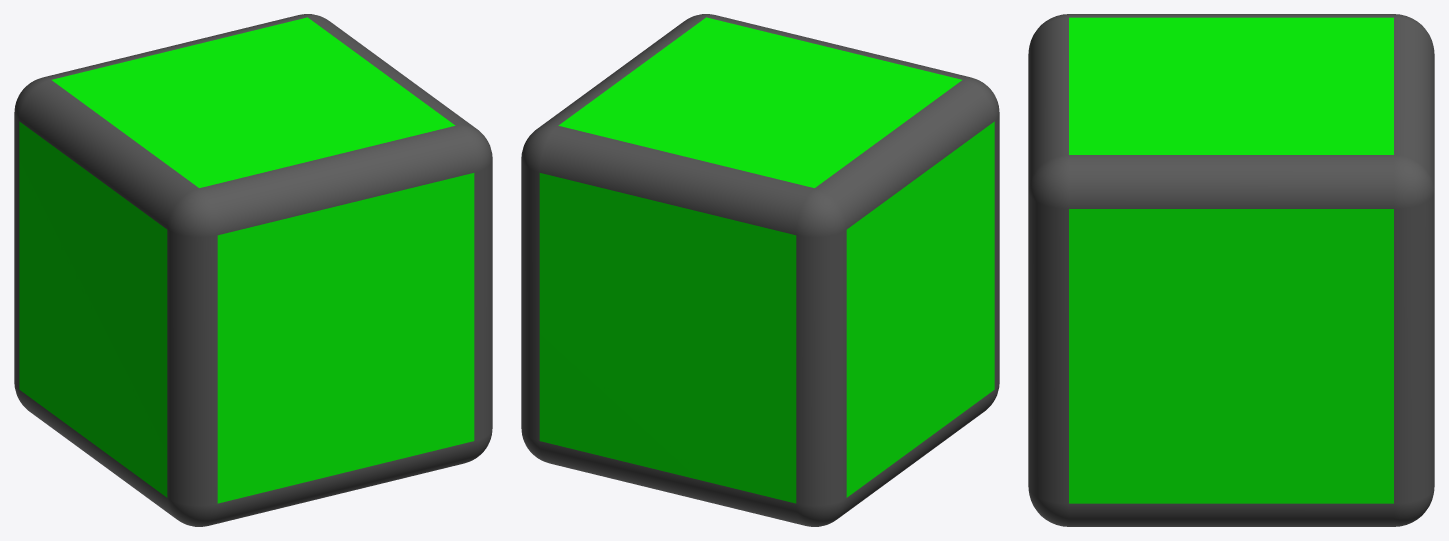
Rendered from stone2.glb.
The picture shows the model from 3 angles, left to right: view 1: azimuth 30°, elevation 25°; view 2: azimuth 150°, elevation 25°; view 3: azimuth 270°, elevation 25°; orthographic projection. The views are drawn at different scales.
Visible parts, largest first — view 1: Cube; view 2: Cube; view 3: Cube.
Part boxes in pixels (<box>): Cube: <box>14,14,492,526</box>; Cube: <box>521,14,999,526</box>; Cube: <box>1028,14,1434,526</box>.
Bounding box in the file's own units: 1 × 1 × 1.
